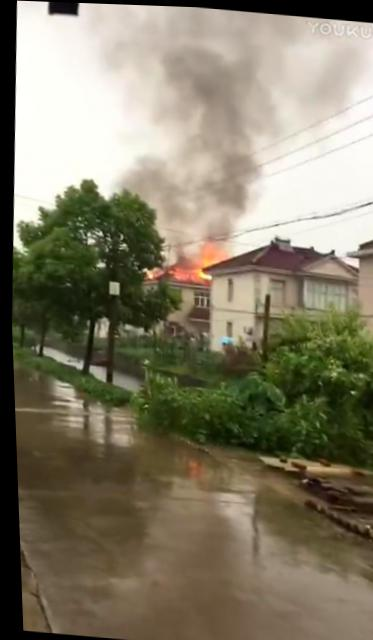fire: (192, 239, 219, 264), (173, 264, 208, 279)
